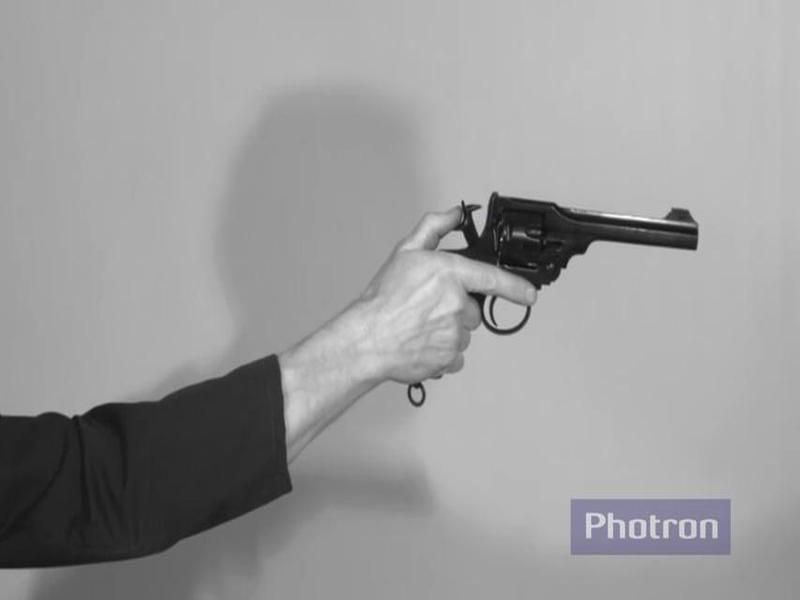Revolver: (443, 170, 702, 354)
